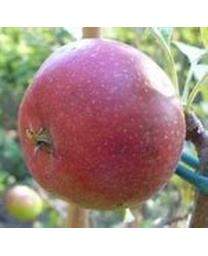apple: (18, 39, 185, 213)
